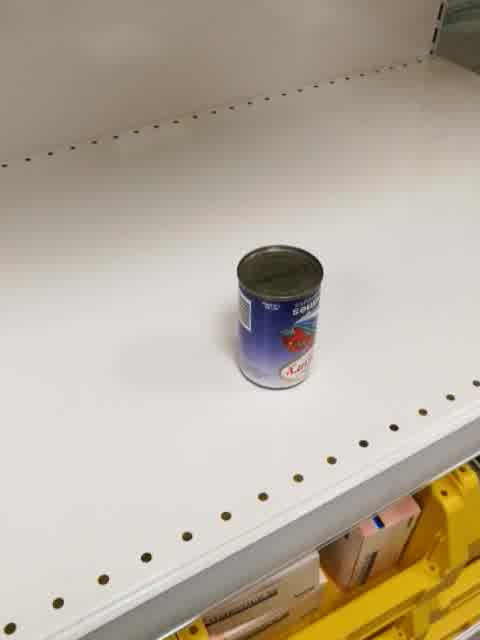sardine: (235, 244, 324, 391)
